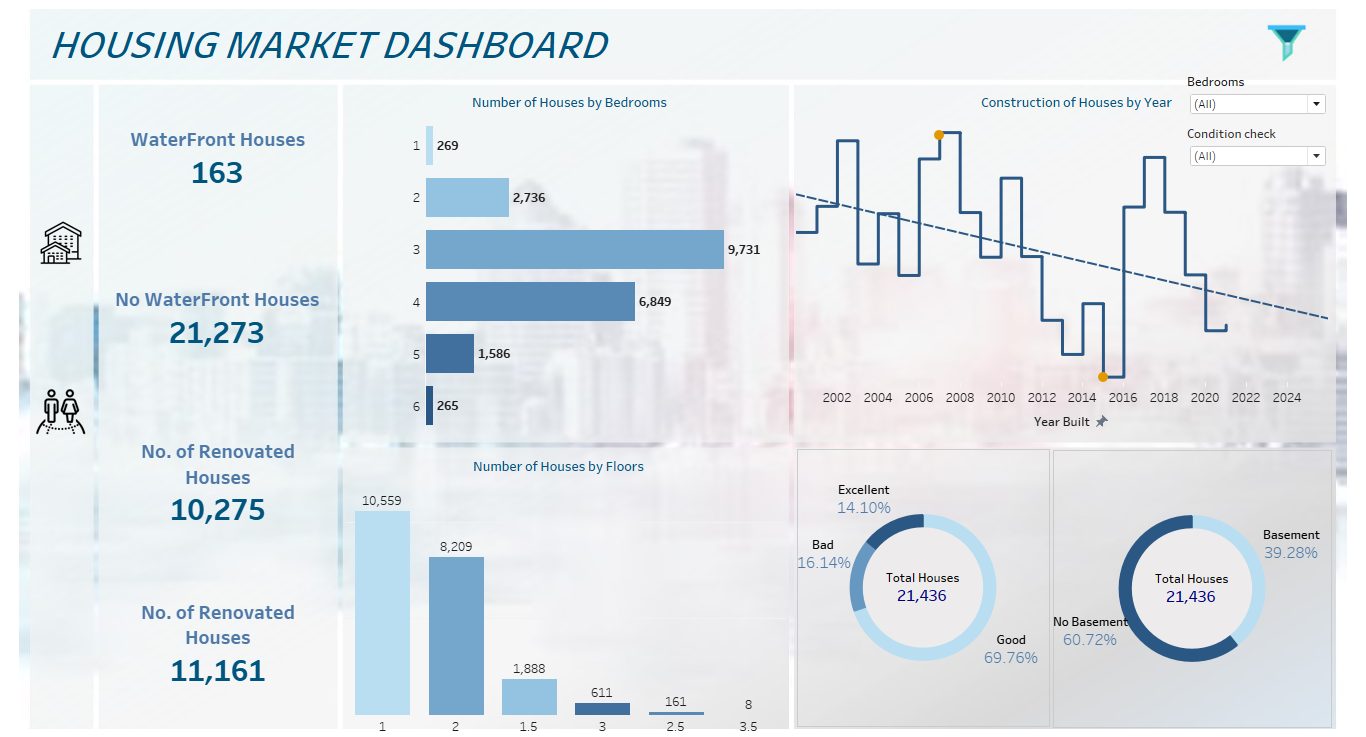

What the dashboard file says about the page in this screenshot:
{"tool":"tableau","page":{"name":"Dashboard 1","canvas":[1366,720],"ordinal":0},"visuals":[{"type":"image","param":"Image/ignite bg.jpg","box":[0,0,1366,720]},{"type":"text","box":[46,6,1025,57]},{"type":"dashboard-object","box":[1256,11,61,45]},{"type":"filter","title":"houses by bedrooms","param":"[federated.02kpcsb0cqzgkm1d0lef509a5wsl].[none:bedrooms:ok]","box":[1183,60,150,52]},{"type":"text","box":[359,77,421,31]},{"type":"text","box":[866,77,421,31]},{"type":"worksheet","title":"waterfront hosues","mark":"Automatic","box":[108,80,220,140]},{"type":"worksheet","title":"forecaste of yrbuilt","mark":"Line","rows":["id","Calculation_1158551036809433088"],"cols":["yr_built"],"box":[796,109,532,319]},{"type":"worksheet","title":"houses by bedrooms","mark":"Automatic","rows":["bedrooms"],"cols":["id"],"box":[345,110,435,313]},{"type":"filter","title":"condition pie","param":"[federated.02kpcsb0cqzgkm1d0lef509a5wsl].[none:Calculation_212232164032946176:nk","box":[1183,112,150,52]},{"type":"dashboard-object","box":[32,211,59,45]},{"type":"worksheet","title":"no waterfront hosues ","mark":"Automatic","box":[104,227,227,166]},{"type":"dashboard-object","box":[31,378,60,51]},{"type":"worksheet","title":"reno housese","mark":"Automatic","box":[105,401,227,148]},{"type":"worksheet","title":"condition pie","mark":"Pie","rows":["Calculation_857372811316891655","Calculation_857372811316891655"],"box":[797,440,253,278]},{"type":"text","box":[348,441,421,31]},{"type":"worksheet","title":"basement pie","mark":"Pie","rows":["Calculation_857372811316891655","Calculation_857372811316891655"],"box":[1053,441,279,278]},{"type":"worksheet","title":"no reno housese ","mark":"Automatic","box":[105,557,227,157]}]}

Visuals, with their boxes in screenshot pixels (x1, y1, x2, y2), scaled from the page's 1366x720 canvas onto the 1366x737 screenshot:
image: detection(0, 0, 1365, 736)
text: detection(46, 6, 1071, 64)
dashboard-object: detection(1256, 11, 1317, 57)
"houses by bedrooms" filter: detection(1183, 61, 1333, 115)
text: detection(359, 79, 780, 111)
text: detection(866, 79, 1287, 111)
"waterfront hosues" worksheet: detection(108, 82, 328, 225)
"forecaste of yrbuilt" worksheet (Line marks): detection(796, 112, 1328, 438)
"houses by bedrooms" worksheet: detection(345, 113, 780, 433)
"condition pie" filter: detection(1183, 115, 1333, 168)
dashboard-object: detection(32, 216, 91, 262)
"no waterfront hosues " worksheet: detection(104, 232, 331, 402)
dashboard-object: detection(31, 387, 91, 439)
"reno housese" worksheet: detection(105, 410, 332, 562)
"condition pie" worksheet (Pie marks): detection(797, 450, 1050, 735)
text: detection(348, 451, 769, 483)
"basement pie" worksheet (Pie marks): detection(1053, 451, 1332, 736)
"no reno housese " worksheet: detection(105, 570, 332, 731)
